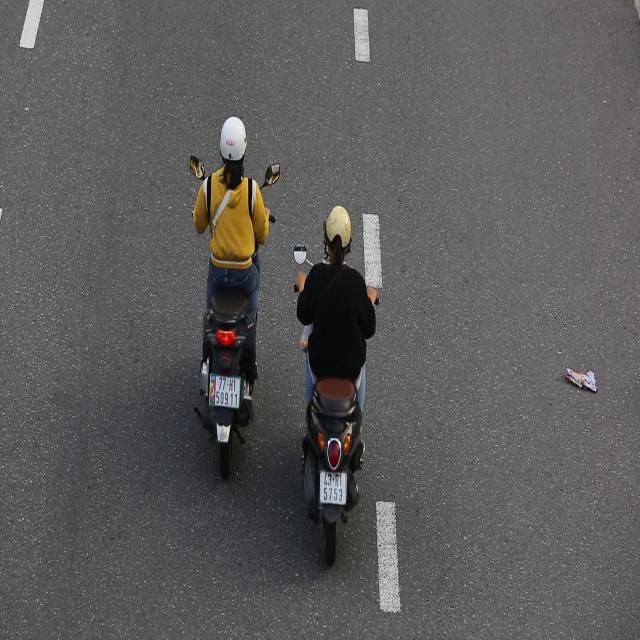motorbike: (278, 175, 380, 570), (190, 107, 284, 490)
